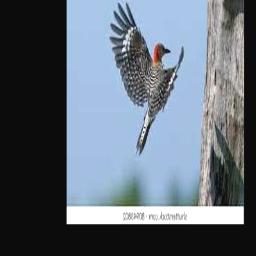Woodpecker: (109, 2, 184, 156)
